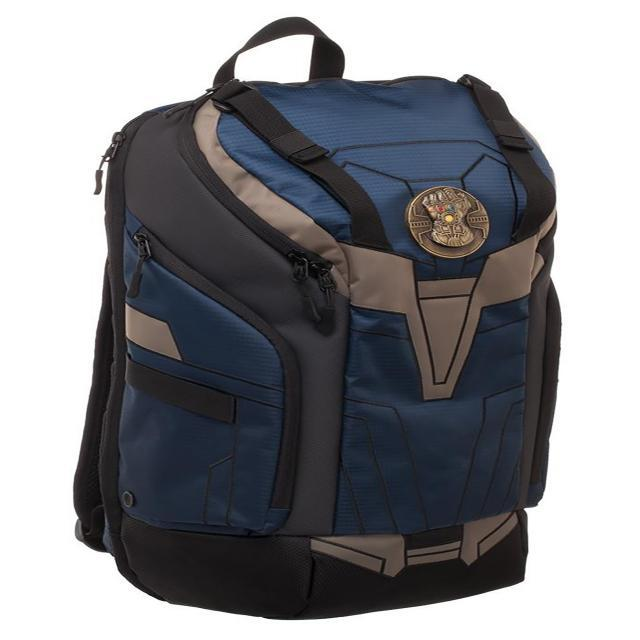Backpacks: (69, 73, 562, 618)
